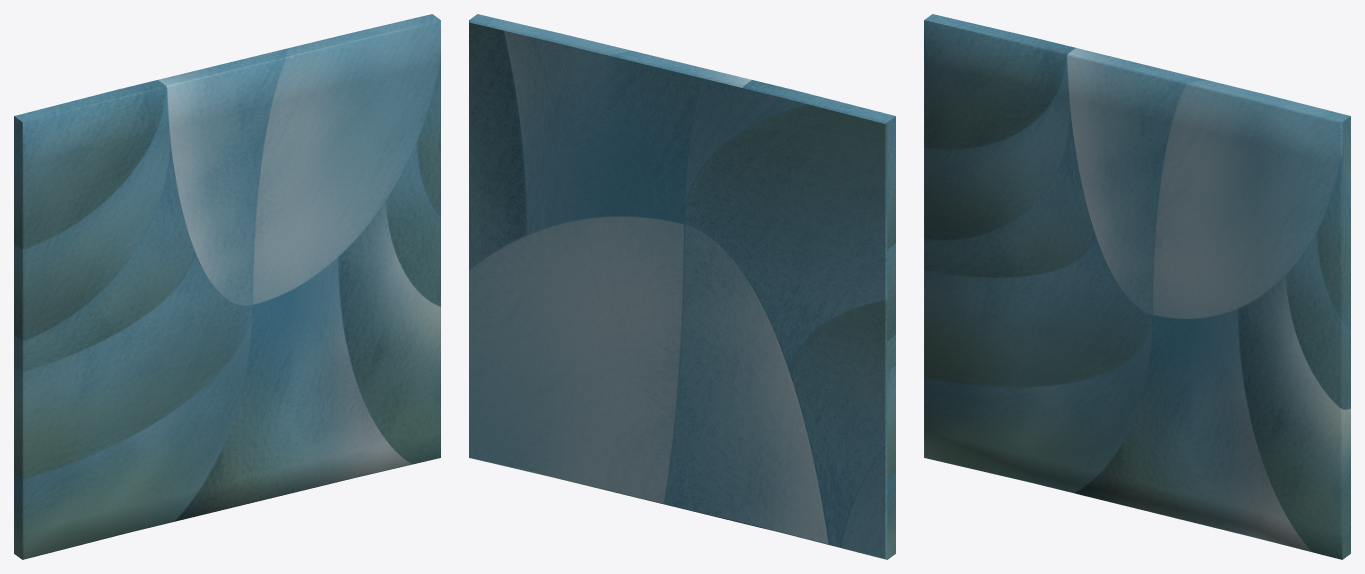
File: ArtP-SqLgU.fbx
3 renders of one model, left to right at view 1: azimuth 30°, elevation 25°; view 2: azimuth 150°, elevation 25°; view 3: azimuth 330°, elevation 25°, orthographic.
Visible parts, largest first — view 1: ArtP_LadyInBlue; view 2: ArtP_LadyInBlue; view 3: ArtP_LadyInBlue.
Boxes of the visible parts, box(x1,y1,x2,y2) form: ArtP_LadyInBlue: box(14, 14, 440, 559); ArtP_LadyInBlue: box(469, 14, 895, 559); ArtP_LadyInBlue: box(924, 14, 1350, 559).
Size of the model in its own units: 91.44 by 91.69 by 3.81.
